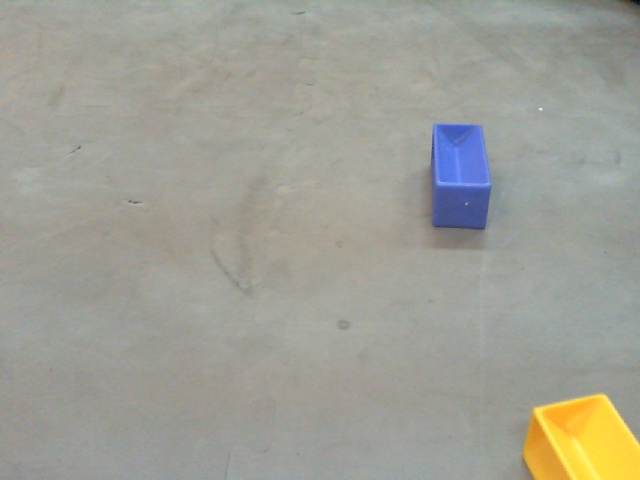BlueSample: (427, 121, 492, 231)
YellowSample: (515, 391, 640, 480)
